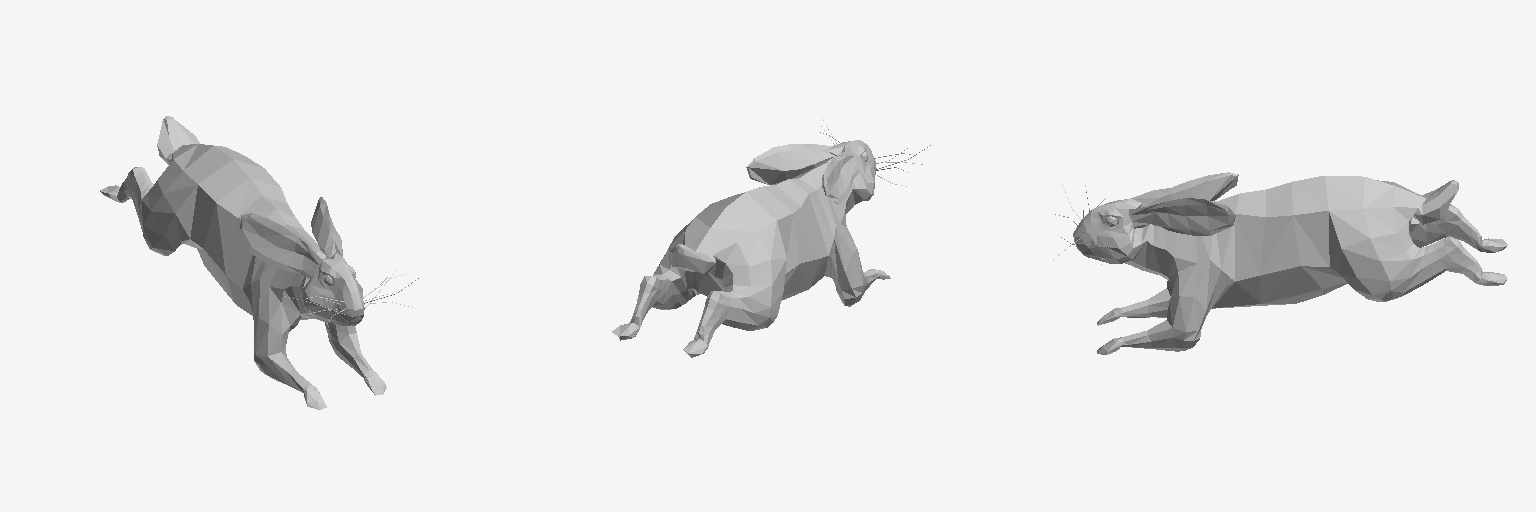
The model's file is rabbit_8.obj.
The picture shows the model from 3 angles: view 1: azimuth 30°, elevation 25°; view 2: azimuth 150°, elevation 25°; view 3: azimuth 270°, elevation 25°; orthographic projection.
Parts seen in each view (by area): view 1: Rabbit_Cylinder; view 2: Rabbit_Cylinder; view 3: Rabbit_Cylinder.
Boxes of the visible parts, <box> form: Rabbit_Cylinder: <box>100,116,418,409</box>; Rabbit_Cylinder: <box>612,118,930,357</box>; Rabbit_Cylinder: <box>1053,172,1507,354</box>.
Size of the model in its own units: 7.03 by 9.35 by 24.02.